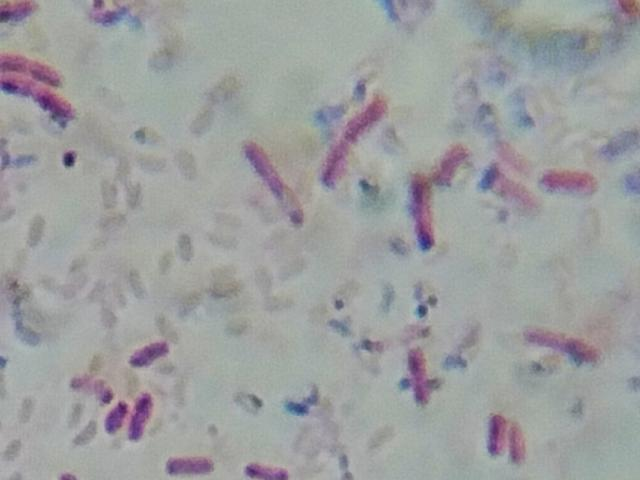E. coli: (246, 139, 304, 223), (3, 78, 76, 124), (530, 324, 599, 365), (537, 164, 597, 200), (406, 174, 435, 248), (405, 337, 435, 407), (429, 138, 461, 195), (480, 170, 529, 207), (343, 97, 389, 133), (3, 45, 52, 77), (126, 396, 156, 445), (127, 336, 171, 366), (243, 452, 289, 480), (162, 452, 216, 475), (0, 0, 50, 24), (325, 135, 347, 189), (507, 417, 532, 463), (484, 410, 505, 458), (103, 399, 123, 437)
